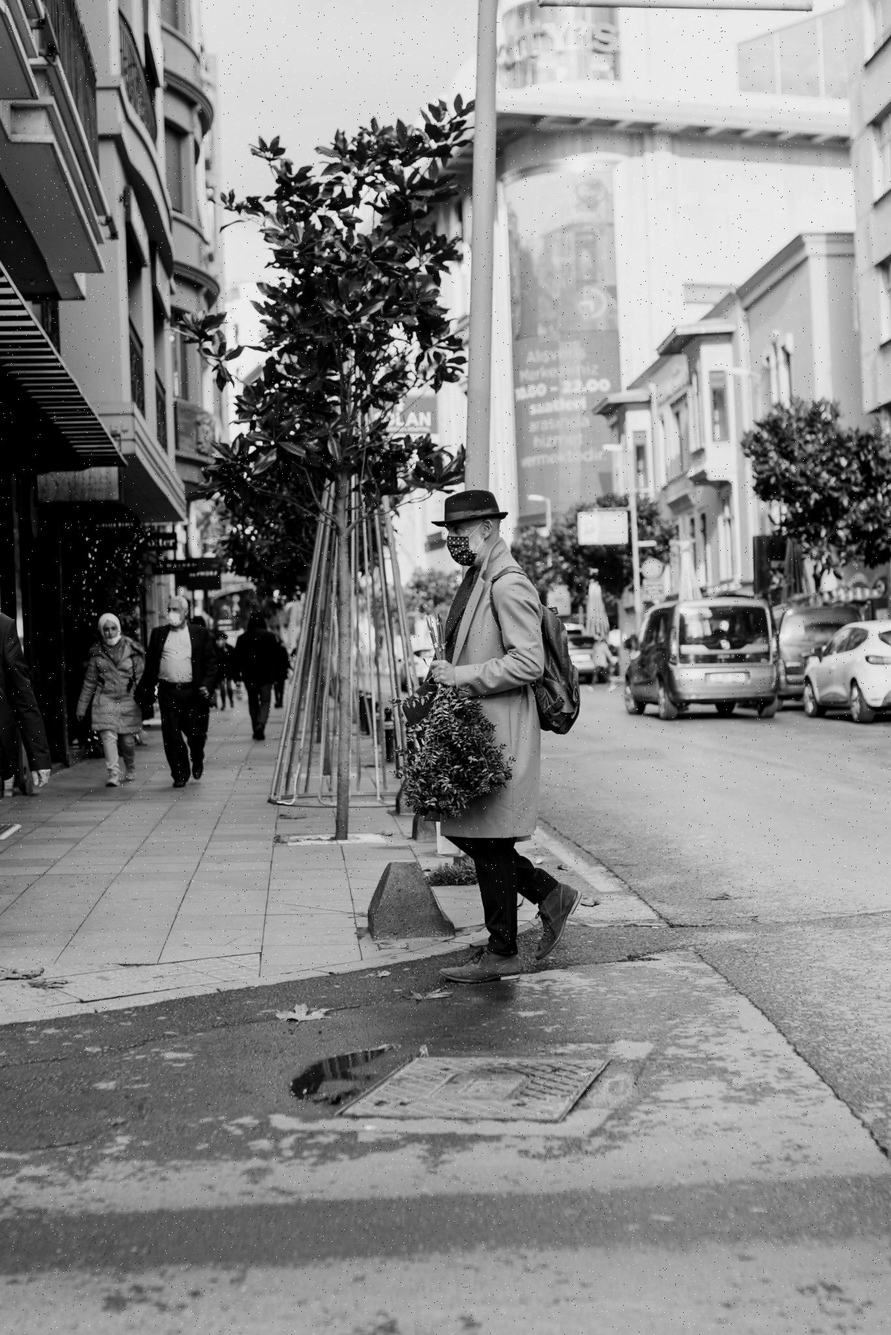car: (630, 589, 786, 722), (813, 625, 891, 731)
pedestrian: (417, 488, 576, 973), (137, 597, 215, 788), (77, 613, 144, 785)
